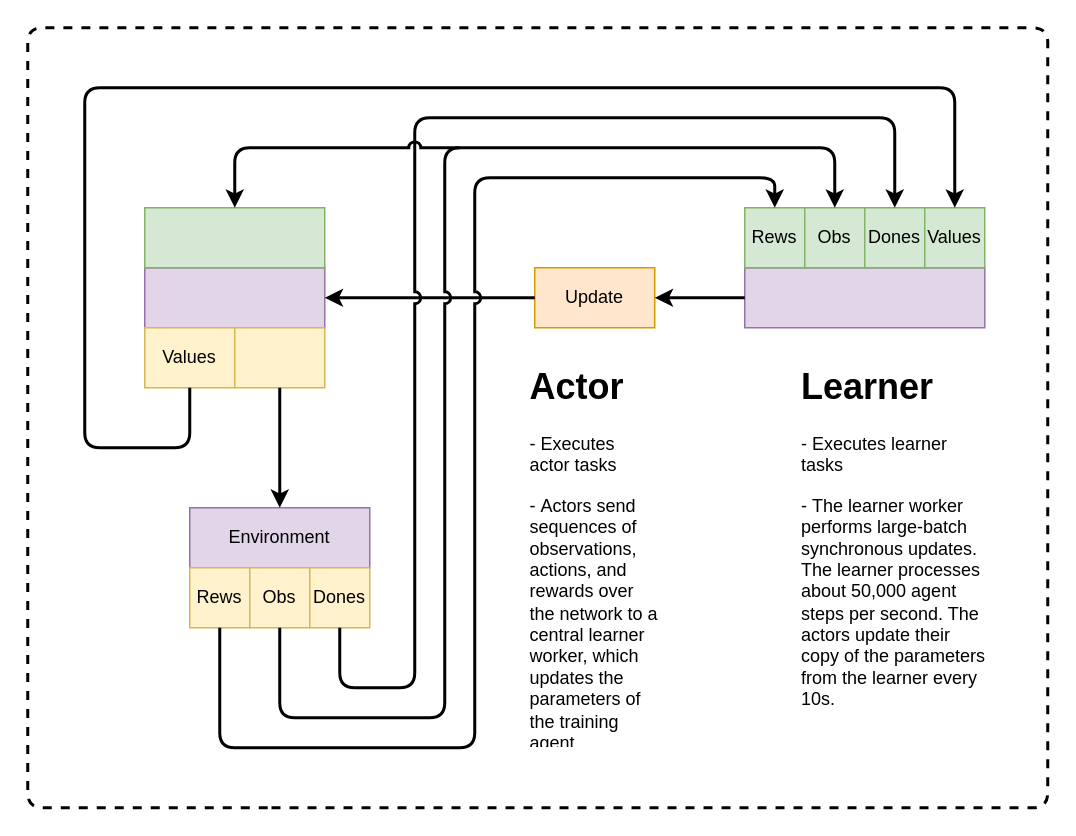
Image size: 1076x836. Some labels were removed from this diagram. Here are the shapes that lost their labels. From the top down, the box of each, then its label:
(143, 206, 325, 268): Observations
(143, 266, 325, 328): Pulsar architecture
(743, 266, 985, 328): Reinforcement learning
(233, 326, 325, 388): Actions
